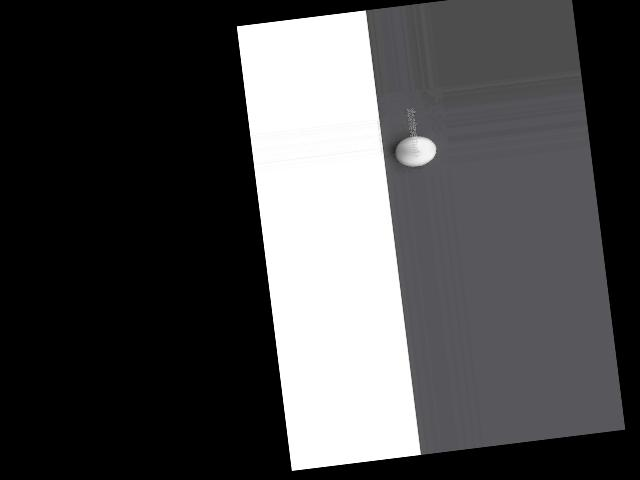egg: (393, 134, 438, 168)
